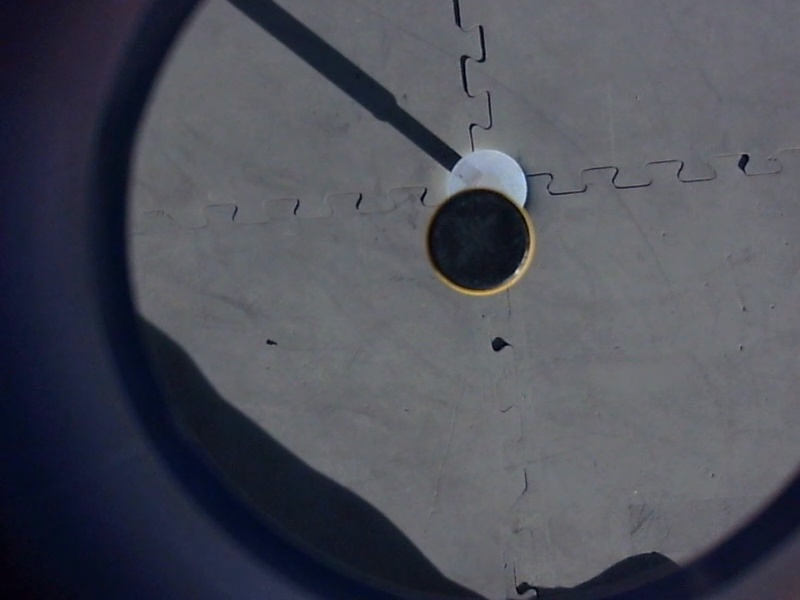tip: (423, 184, 539, 302)
